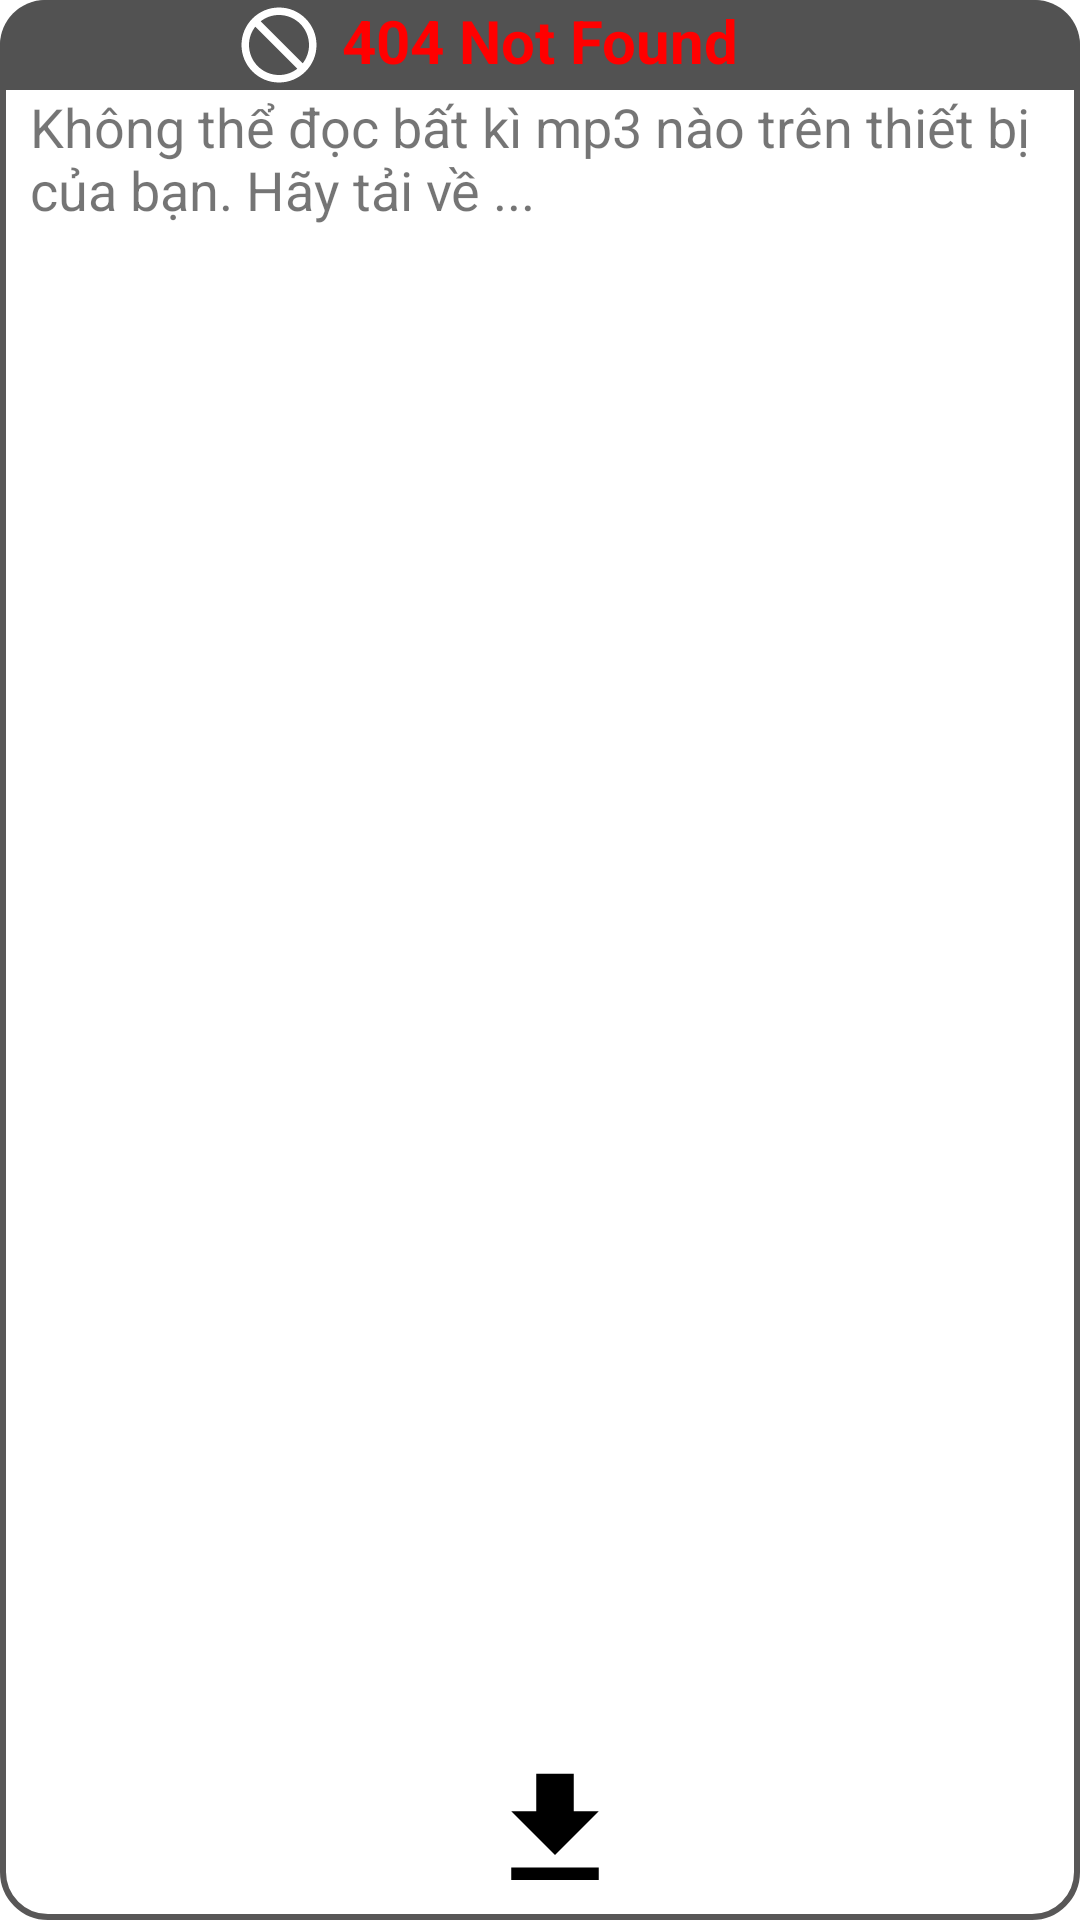

Where icons sit on this 1080w x 1920h app screen, as [x1=x1, y1=y1, x2=x2, y2=y2]:
do not disturb: [x1=241, y1=7, x2=317, y2=83]
download: [x1=511, y1=1773, x2=599, y2=1880]
